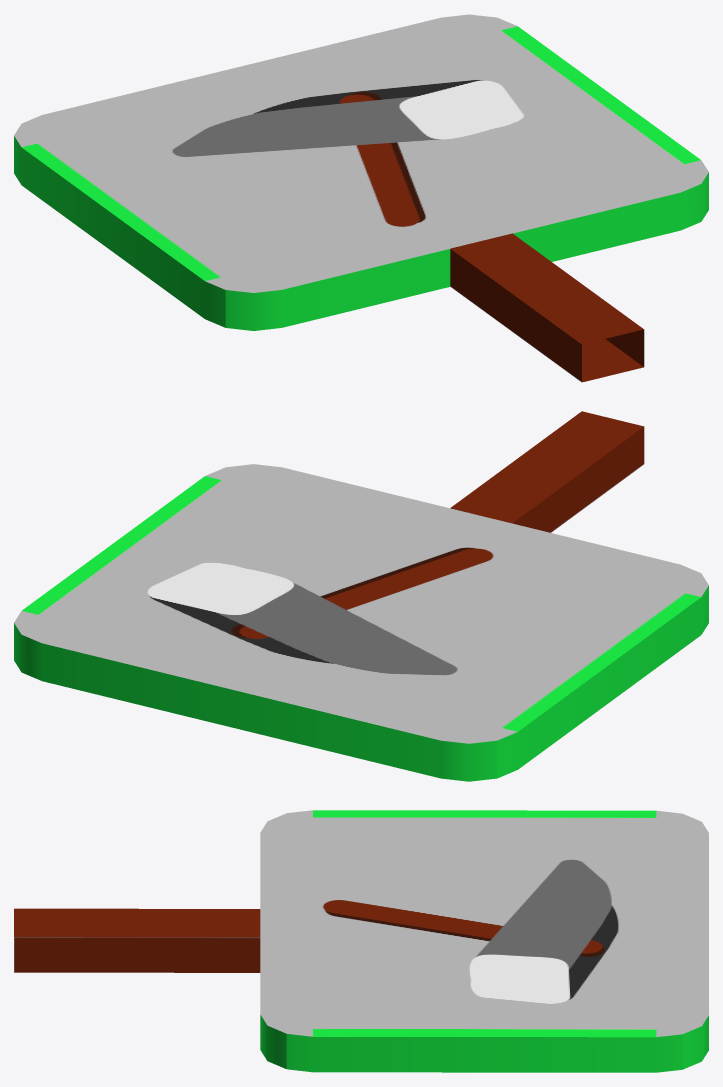
Rendered from Placa_Positiva.fbx.
3 renders of one model, top to bottom at view 1: azimuth 30°, elevation 25°; view 2: azimuth 150°, elevation 25°; view 3: azimuth 270°, elevation 25°, orthographic. The views are drawn at different scales.
Visible parts, largest first — view 1: Placa_Positiva; view 2: Placa_Positiva; view 3: Placa_Positiva.
Boxes of the visible parts, x1=… form: Placa_Positiva: x1=14, y1=14, x2=708, y2=382; Placa_Positiva: x1=14, y1=411, x2=708, y2=781; Placa_Positiva: x1=14, y1=810, x2=708, y2=1072.
Size of the model in its own units: 73.37 by 5.54 by 95.1.
